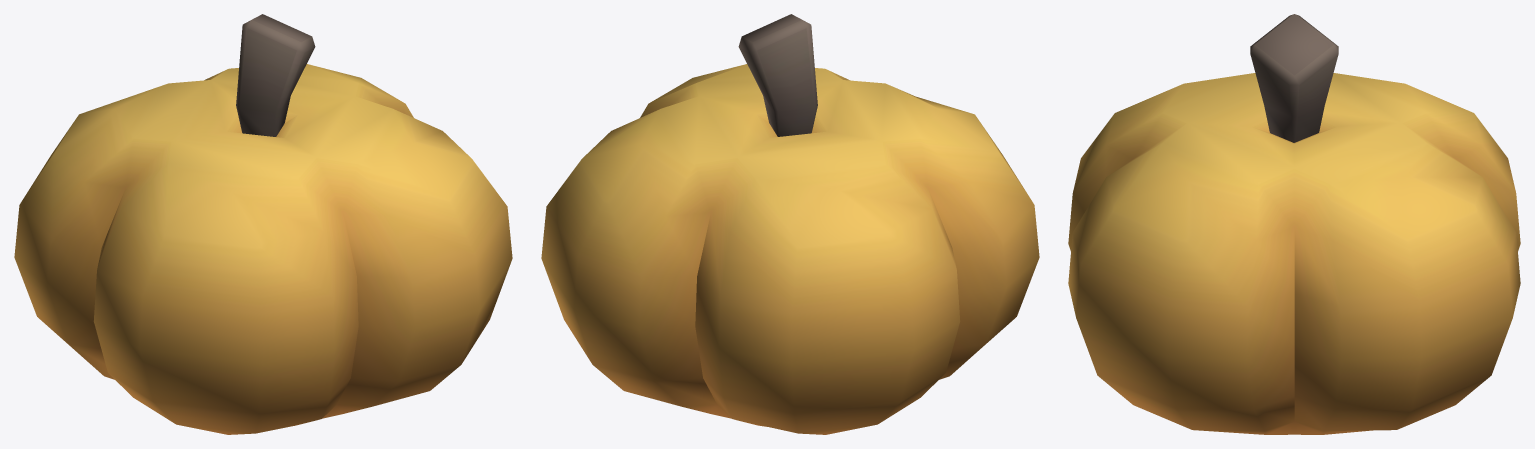
Rendered from pumpkin_yellow_small.glb.
3 views of the same model, side by side, from view 1: azimuth 30°, elevation 25°; view 2: azimuth 150°, elevation 25°; view 3: azimuth 270°, elevation 25° (orthographic).
Parts seen in each view (by area): view 1: pumpkin_yellow_small; view 2: pumpkin_yellow_small; view 3: pumpkin_yellow_small.
Boxes of the visible parts, x1,y1,x2,y2 form: pumpkin_yellow_small: [14, 14, 512, 434]; pumpkin_yellow_small: [541, 14, 1039, 434]; pumpkin_yellow_small: [1068, 14, 1520, 434].
Size of the model in its own units: 0.6 by 0.55 by 0.6.
1 material, 1 textured.
